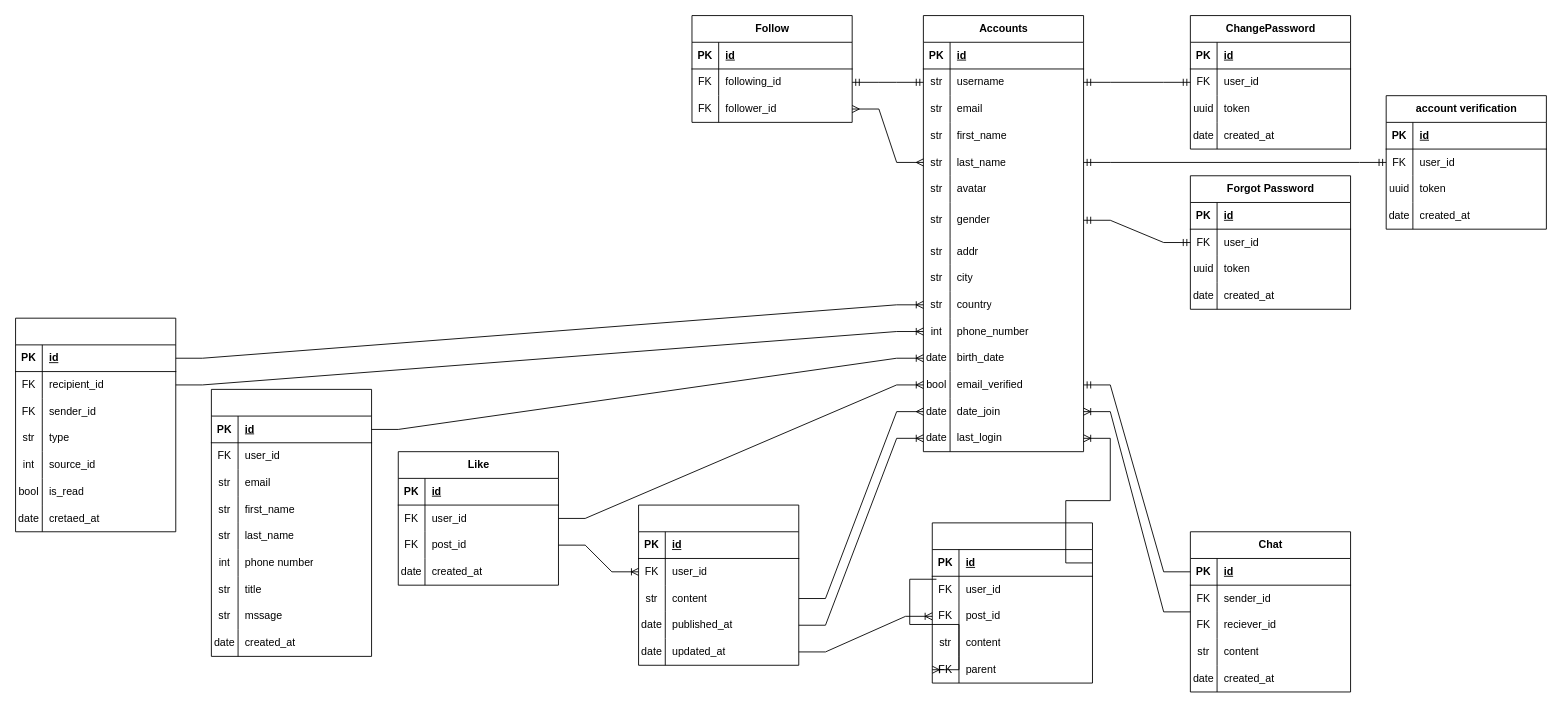
The diagram is 1562 pixels wide and 708 high, and some of its shapes have lost their labels. The shapes that lost their labels are listed below. From the top down, each one's box as (x1, y1, x2, y2) in pixels, then its label:
(15, 317, 176, 532): Notification
(210, 388, 372, 656): Contact
(638, 504, 799, 665): Post
(931, 522, 1092, 683): Comment
